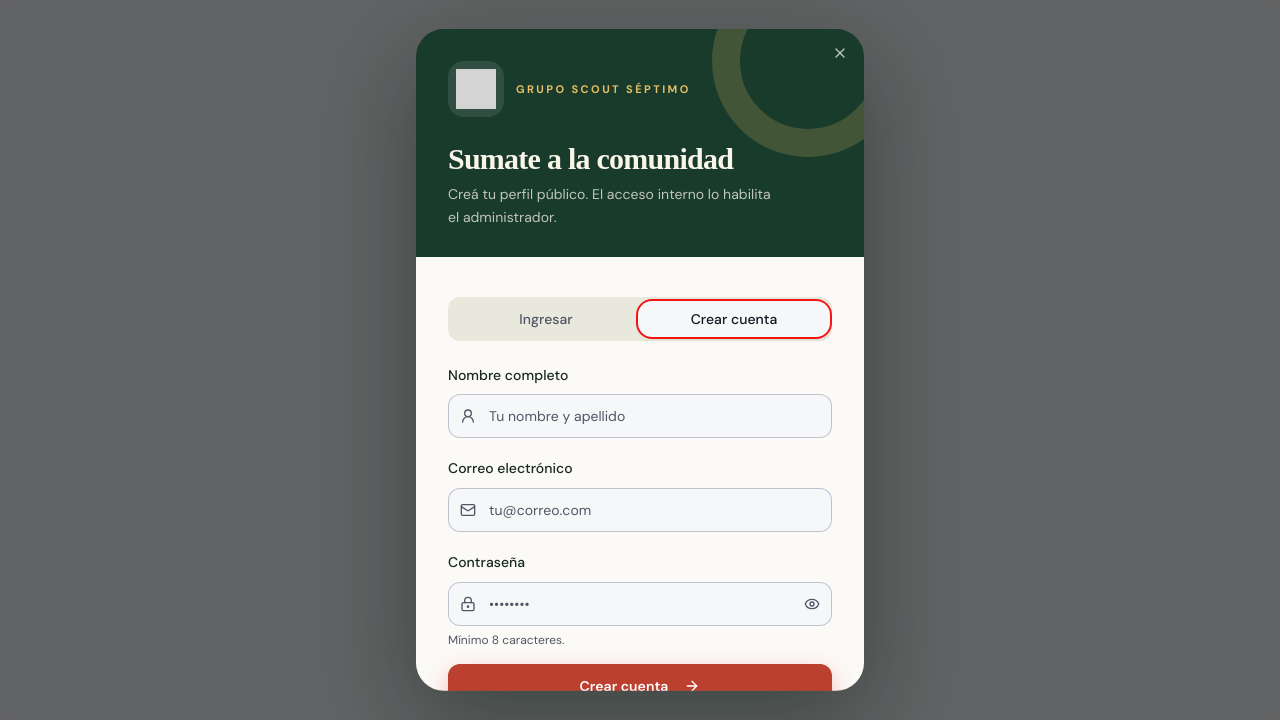
public account registration › explains how to continue when the email already has an account
Type "Scout Prueba" into the field labelled "Nombre completo" at (640, 416), box [448,394,832,438]
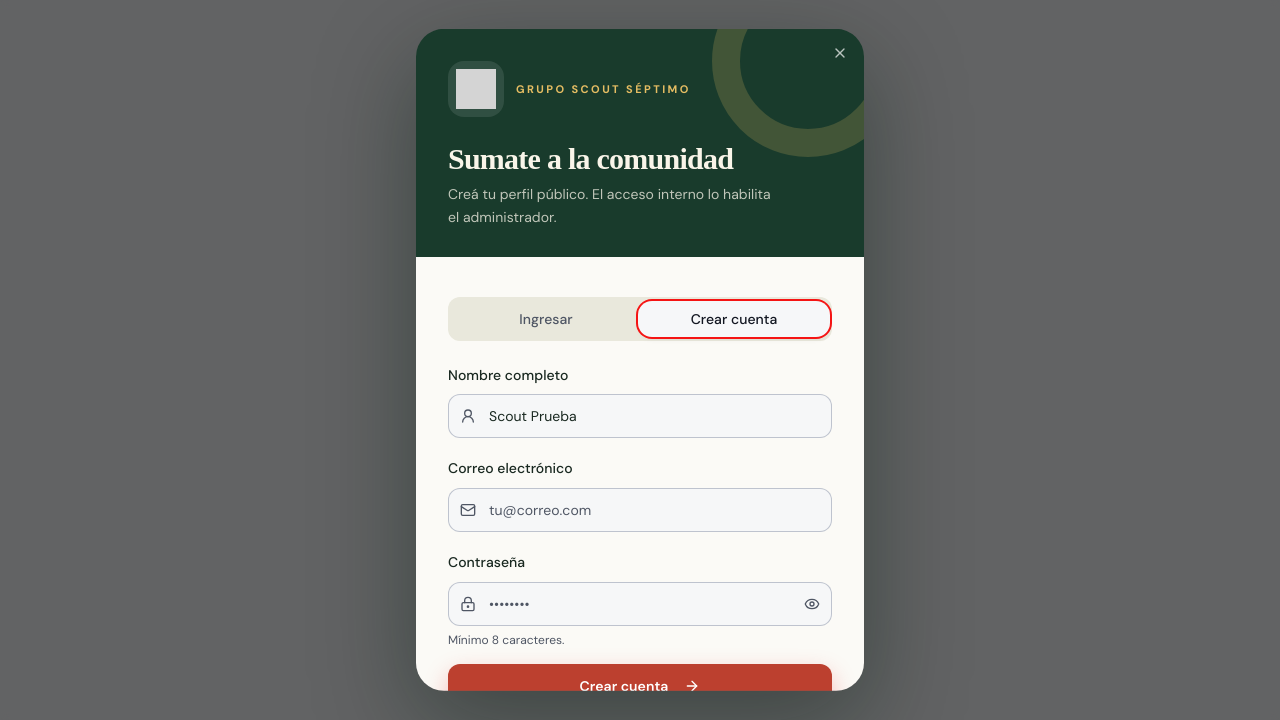
Type "SCOUT@example.com" into the field labelled "Correo electrónico" at (640, 510), box [448,488,832,532]
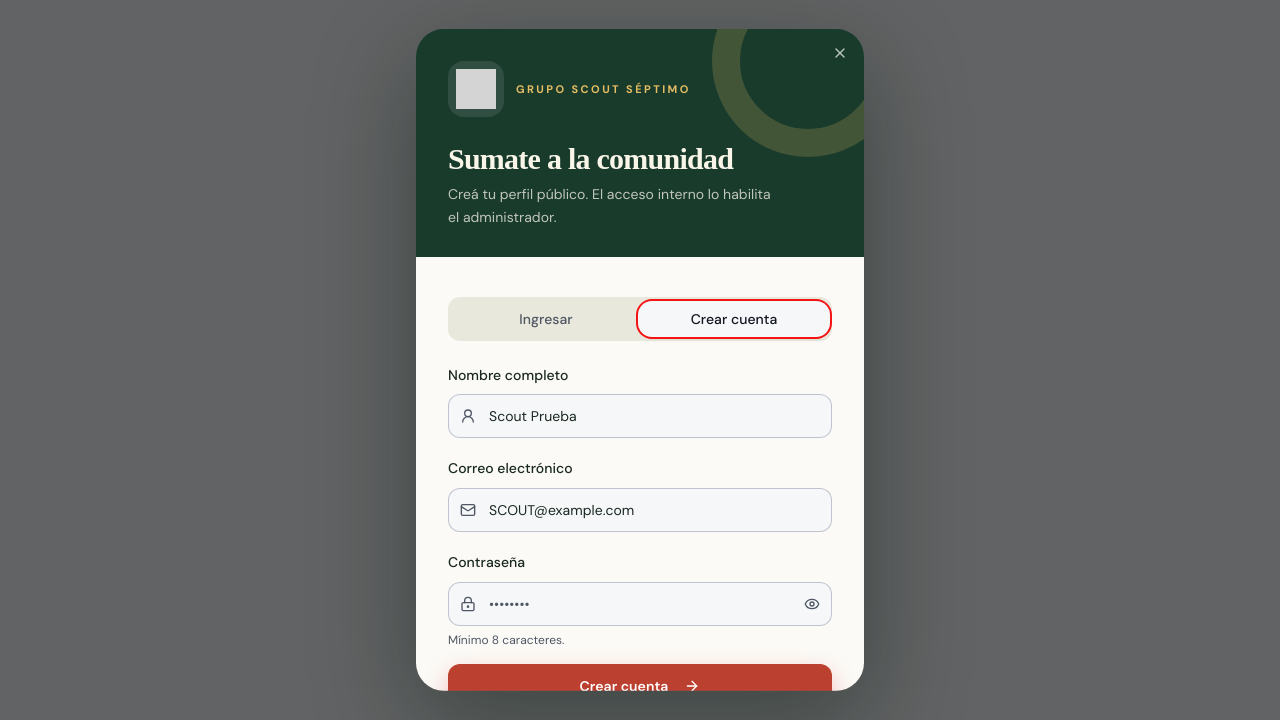
Type "password-segura" into the password field labelled "Contraseña" at (640, 603), box [448,581,832,625]
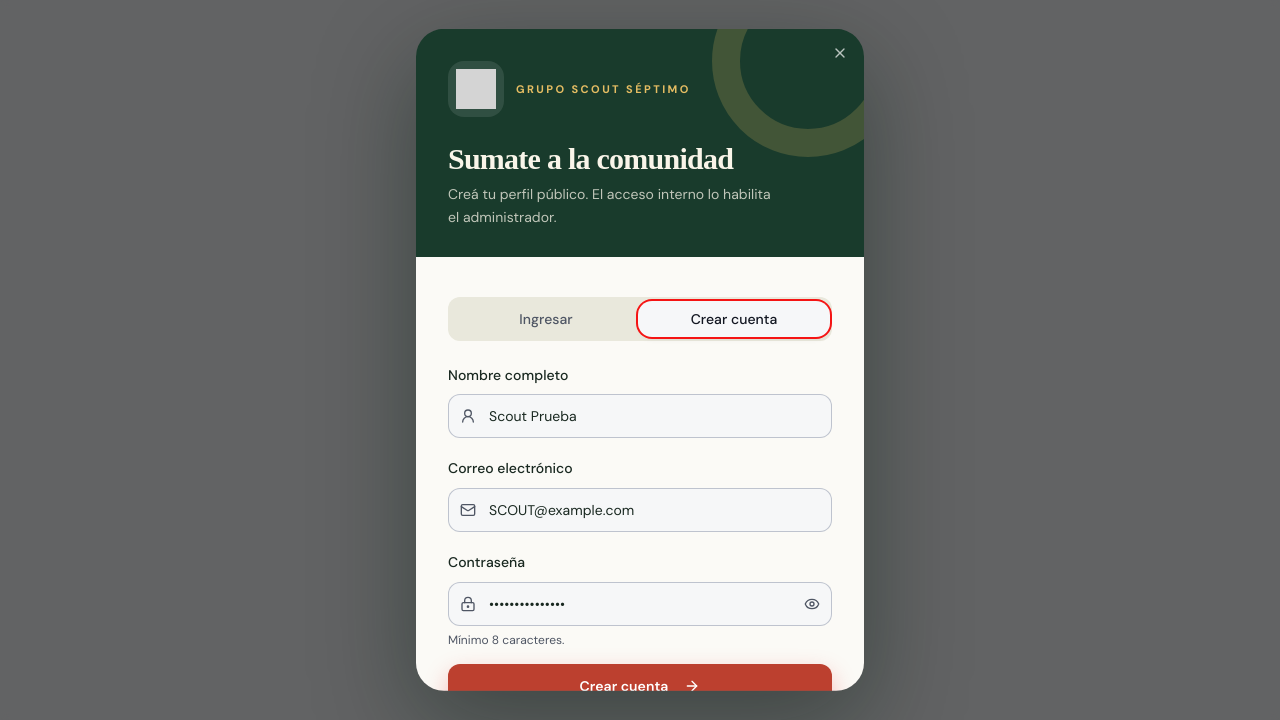
Click the button "Crear cuenta" at (640, 685), box [448,663,832,707]
(page scrolled)
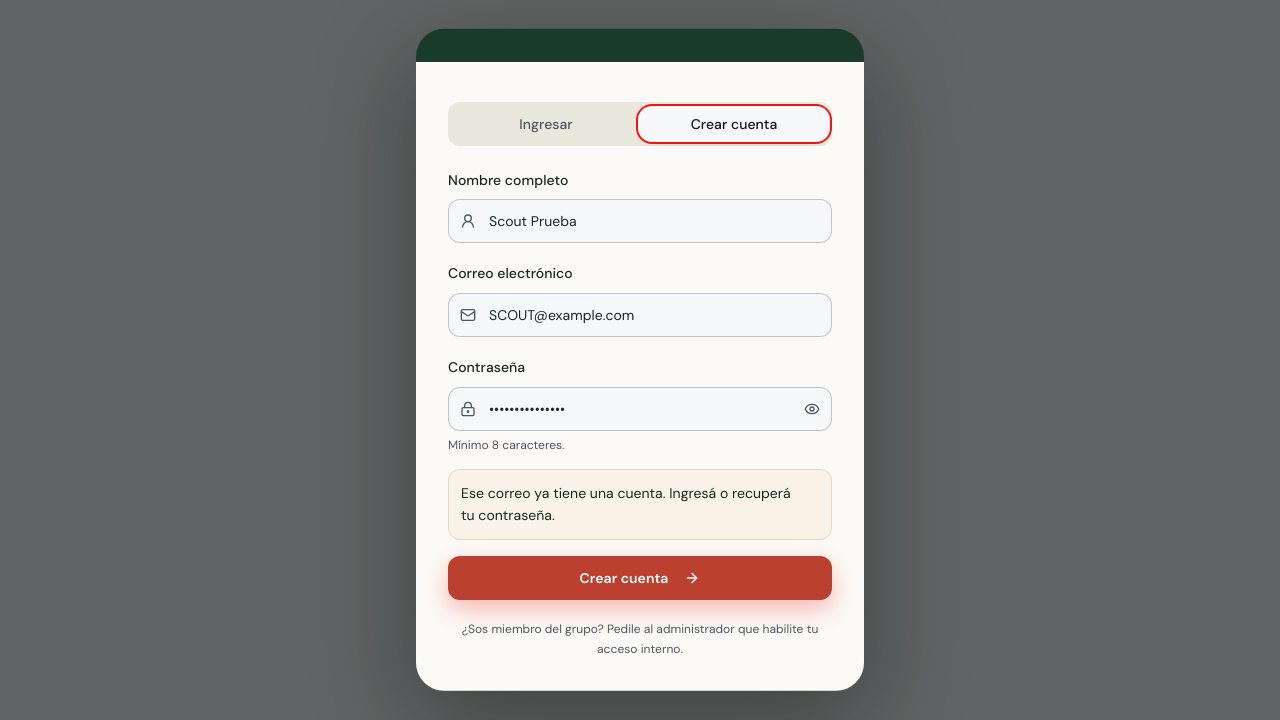
Now the message shows "Ese correo ya tiene una cuenta", box [461,483,791,524]
